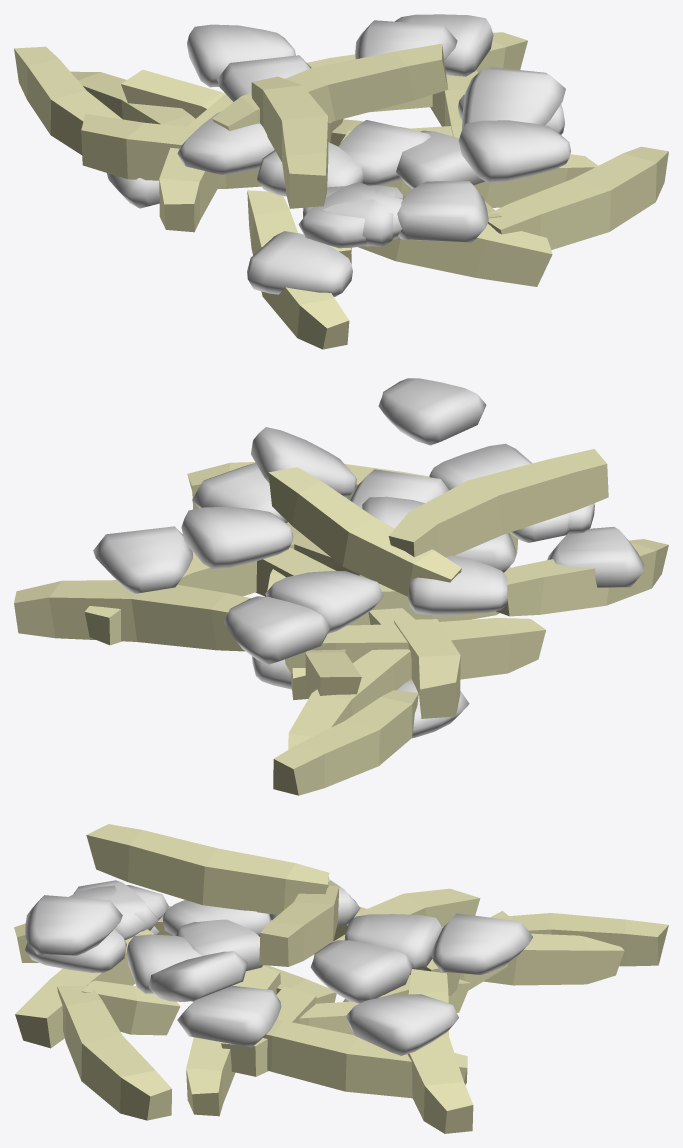
The model's file is HoldCheese.fbx.
3 renders of one model, top to bottom at view 1: azimuth 30°, elevation 25°; view 2: azimuth 150°, elevation 25°; view 3: azimuth 270°, elevation 25°, orthographic. The views are drawn at different scales.
Parts seen in each view (by area): view 1: cheese_select; view 2: cheese_select; view 3: cheese_select.
Part boxes in pixels (x1,y1,x2,y2): cheese_select: [14, 14, 668, 349]; cheese_select: [14, 378, 668, 795]; cheese_select: [14, 824, 668, 1133].
Bounding box in the file's own units: 2.69 × 0.8592 × 3.52.
